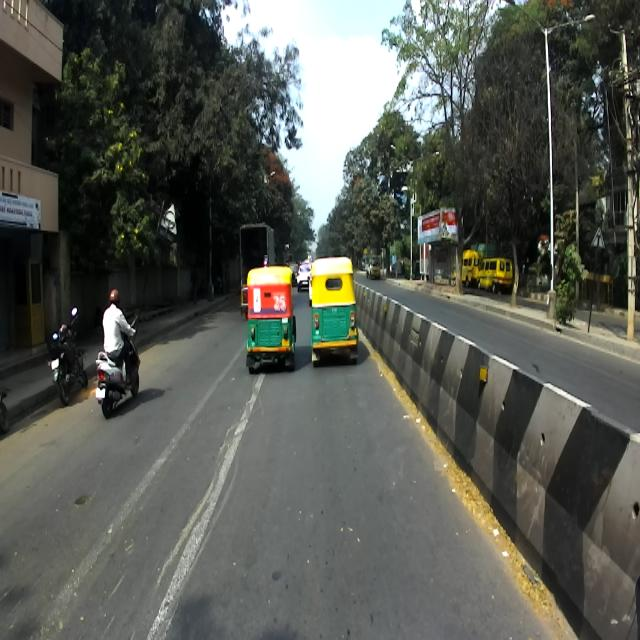auto ahead at: (306, 257, 362, 364), (246, 271, 293, 362)
motorcycle ahead at: (92, 332, 146, 420), (51, 306, 88, 404)
